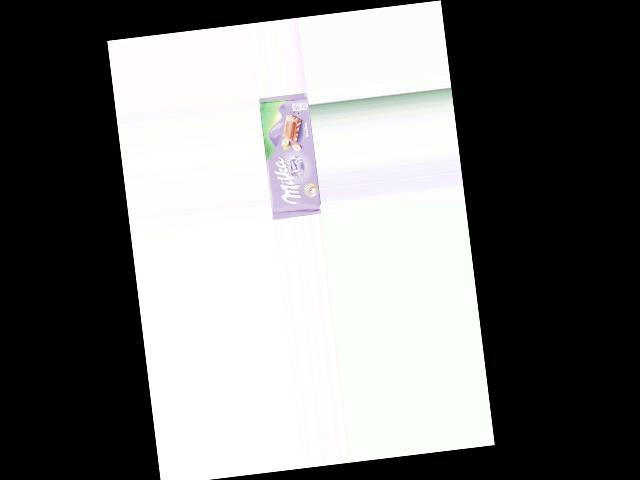chocolate: (258, 92, 322, 219)
